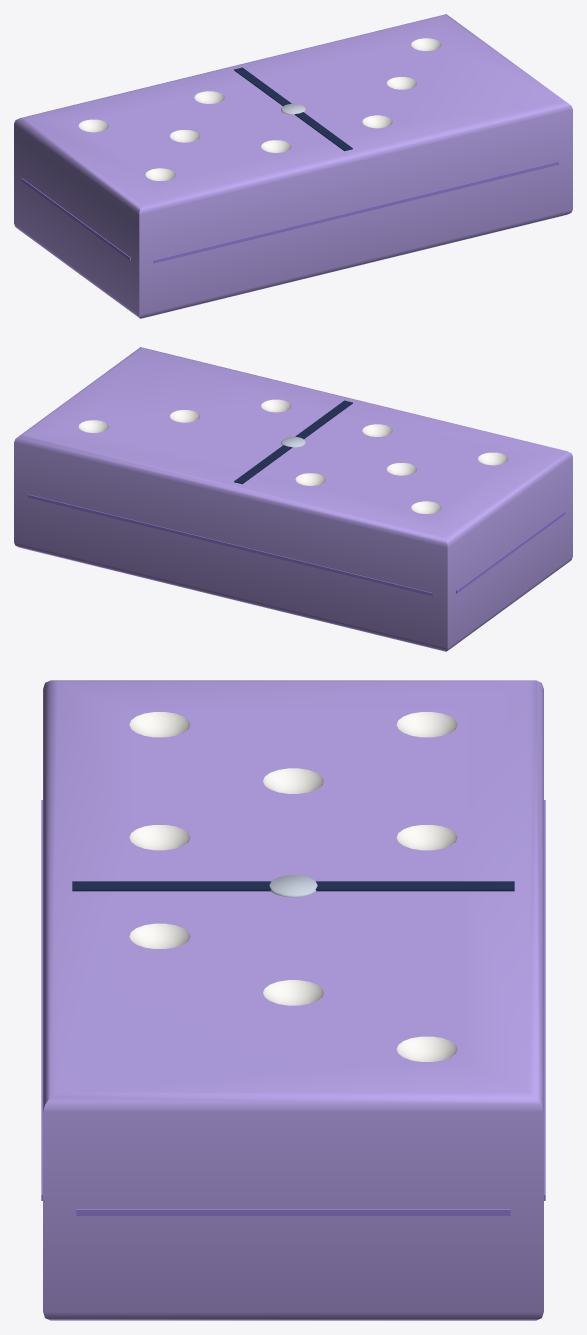
File: toy_domino.glb
3 views of the same model, one above another, from view 1: azimuth 30°, elevation 25°; view 2: azimuth 150°, elevation 25°; view 3: azimuth 270°, elevation 25° (orthographic). The views are drawn at different scales.
Parts seen in each view (by area): view 1: toy_domino; view 2: toy_domino; view 3: toy_domino.
Boxes of the visible parts, x1=… form: toy_domino: x1=14, y1=14, x2=572, y2=318; toy_domino: x1=14, y1=347, x2=572, y2=651; toy_domino: x1=41, y1=680, x2=545, y2=1320.
Bounding box in the file's own units: 12.04 × 3.03 × 6.04.
1 material, 1 textured.
